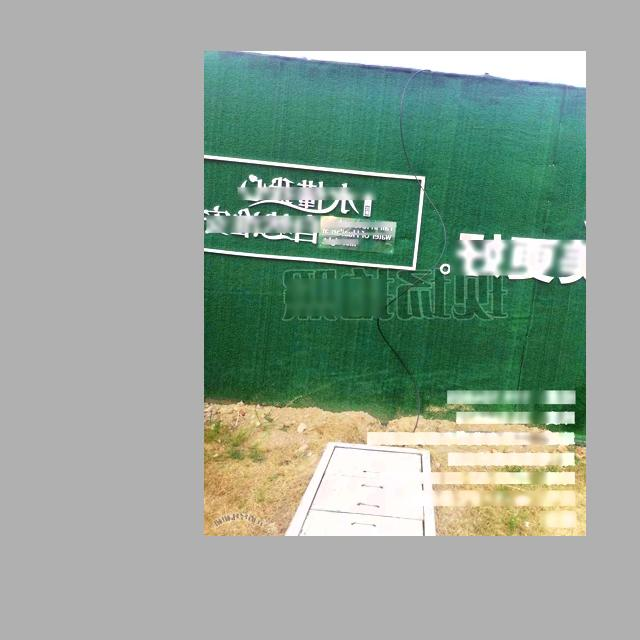good: (286, 440, 439, 536)
